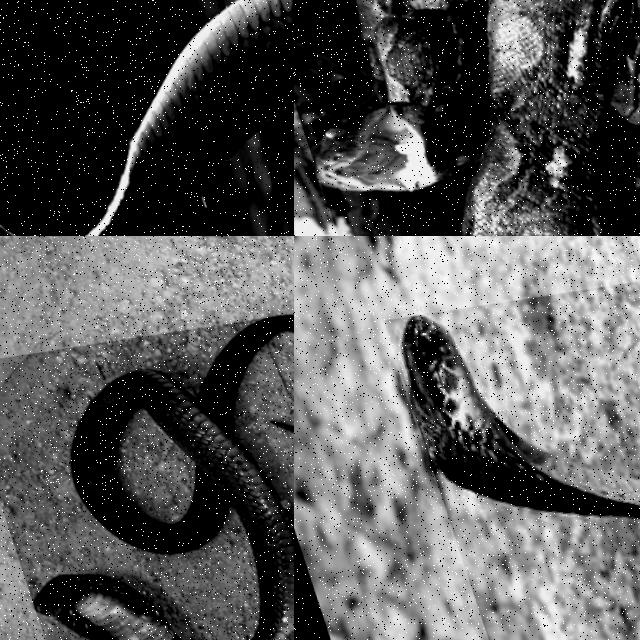Malayopython reticulatus: (464, 0, 622, 235)
Naja siamensis: (72, 315, 293, 639), (402, 316, 639, 518)
Ophiophagus hannah: (87, 0, 293, 235)
